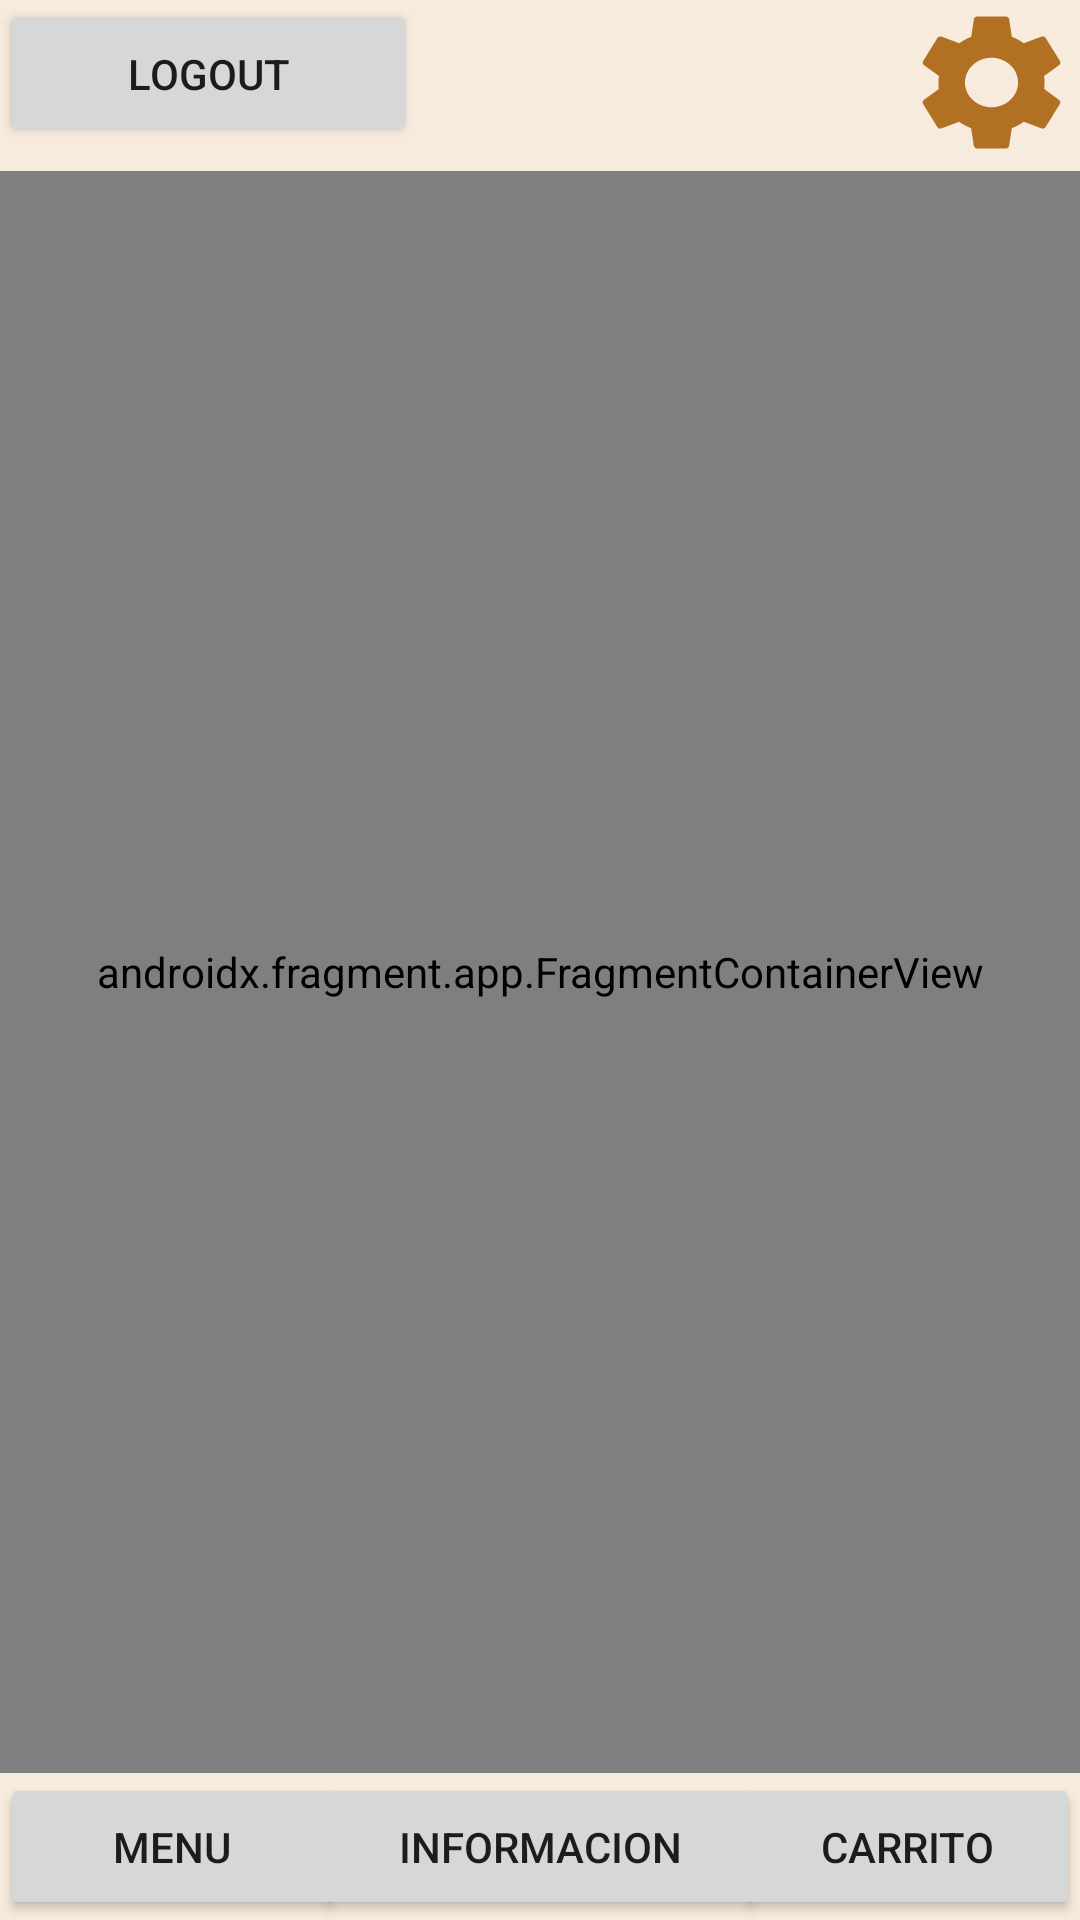

Where to tap for icons on this 1080x1920 app screen, as (x=x, y=y):
setting: (x=991, y=82)
